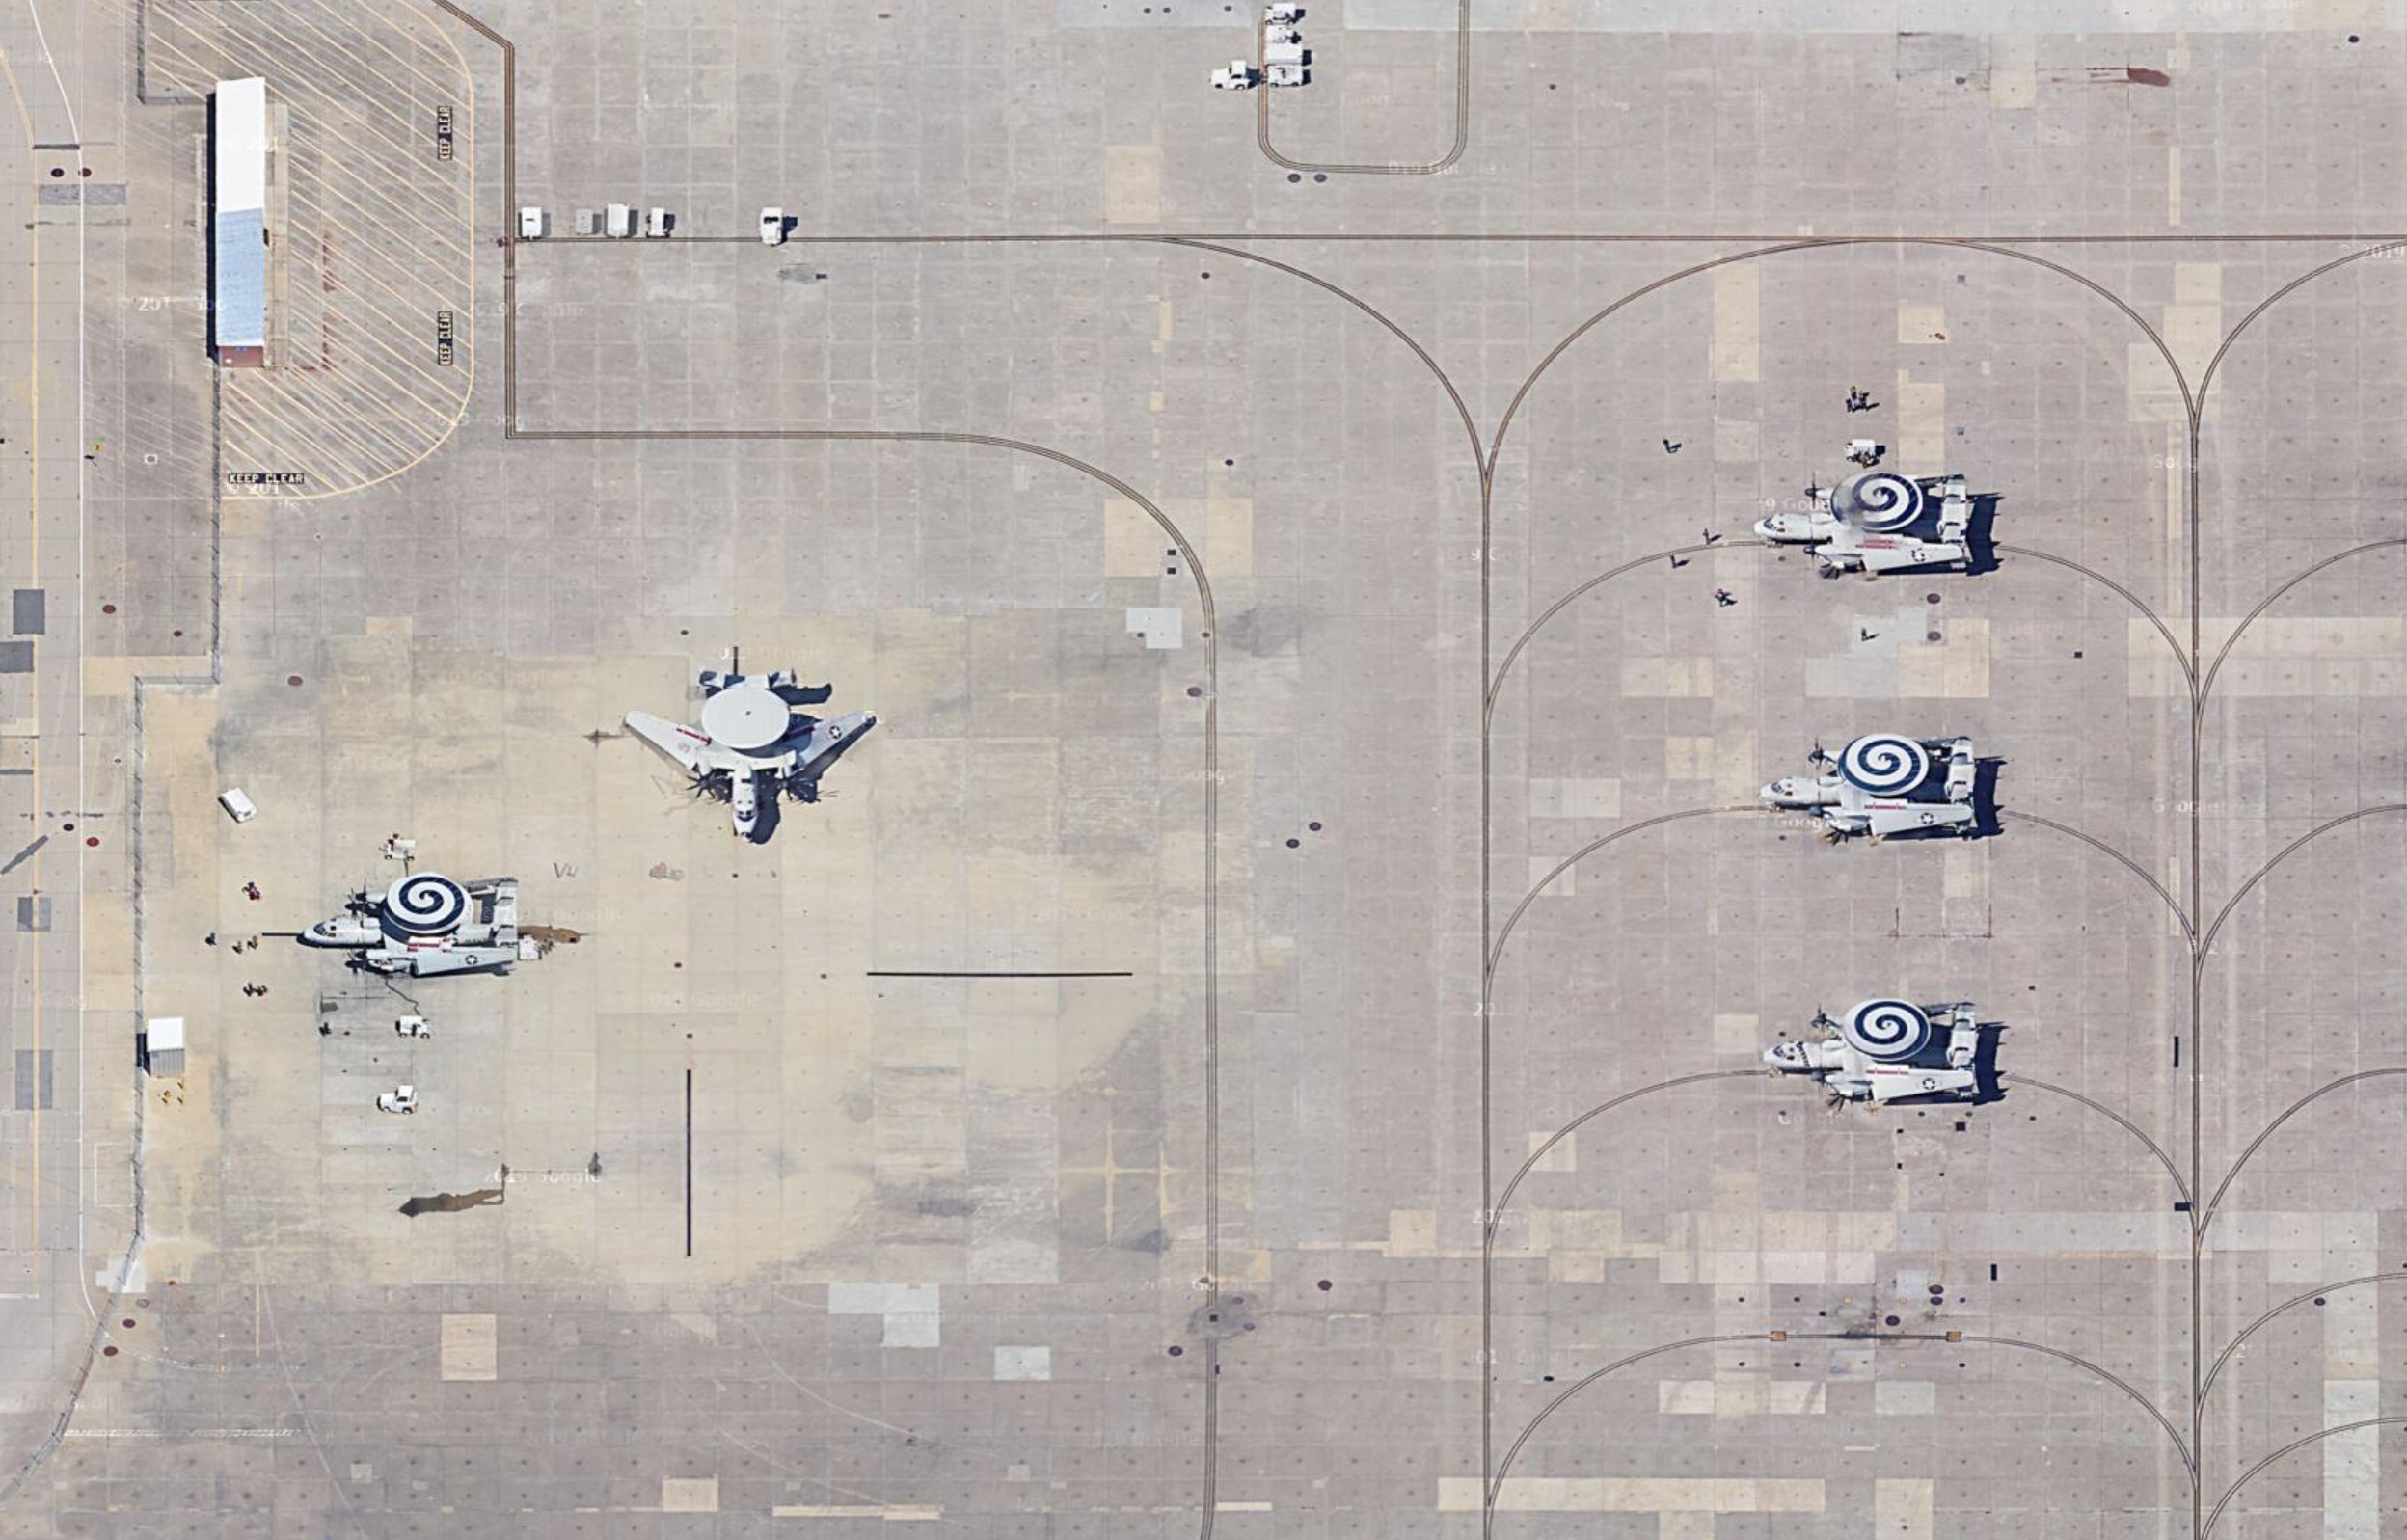E2: (623, 663, 874, 842), (1760, 996, 1982, 1103), (1760, 731, 1977, 838), (300, 870, 519, 975), (1751, 470, 1974, 568)
